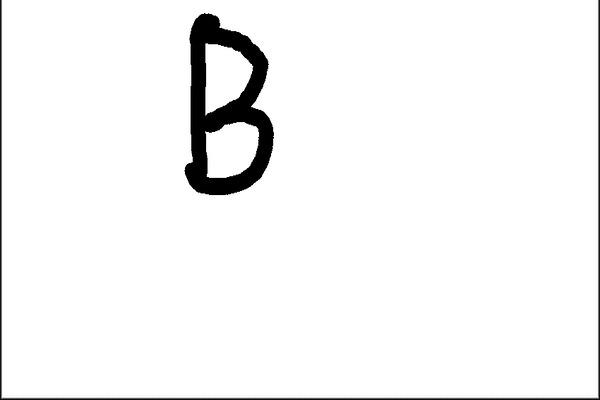B: (176, 7, 280, 198)
